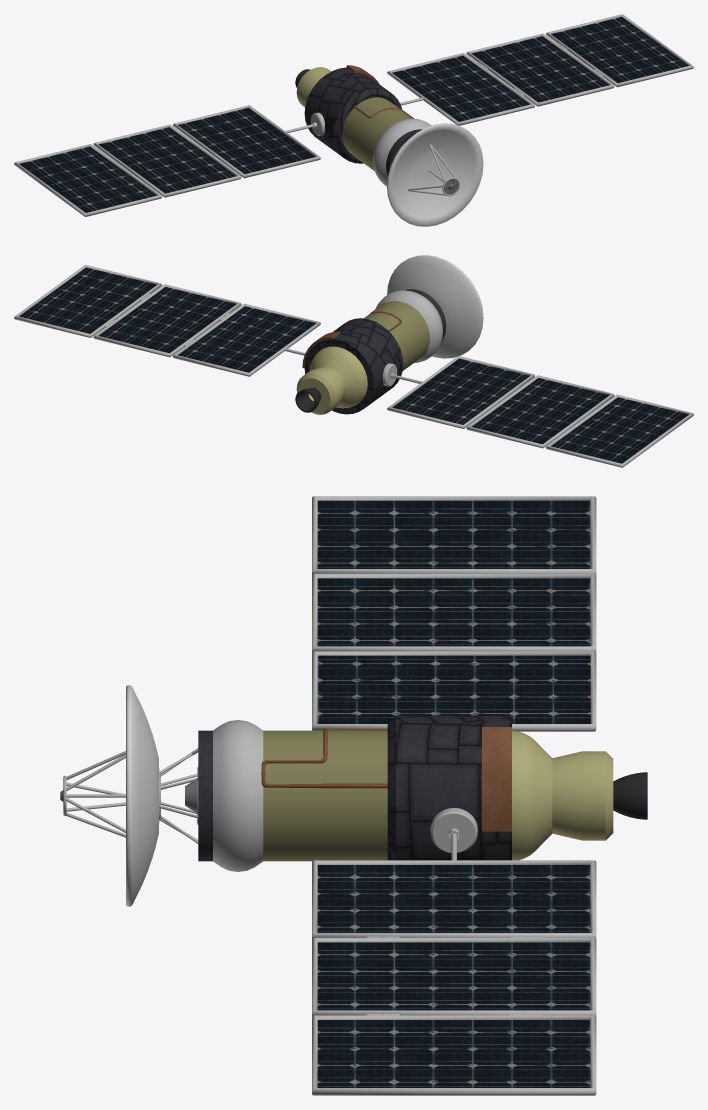
Rendered from satellite1.glb.
The picture shows the model from 3 angles, top to bottom: view 1: azimuth 30°, elevation 25°; view 2: azimuth 150°, elevation 25°; view 3: azimuth 270°, elevation 25°; orthographic projection. The views are drawn at different scales.
Visible parts, largest first — view 1: satellite; view 2: satellite; view 3: satellite.
Boxes of the visible parts, <box> form: satellite: <box>14,14,693,226</box>; satellite: <box>14,255,693,467</box>; satellite: <box>60,496,647,1095</box>.
Size of the model in its own units: 10.73 by 1.69 by 4.48.
Materials: 1 (1 with a texture image).
